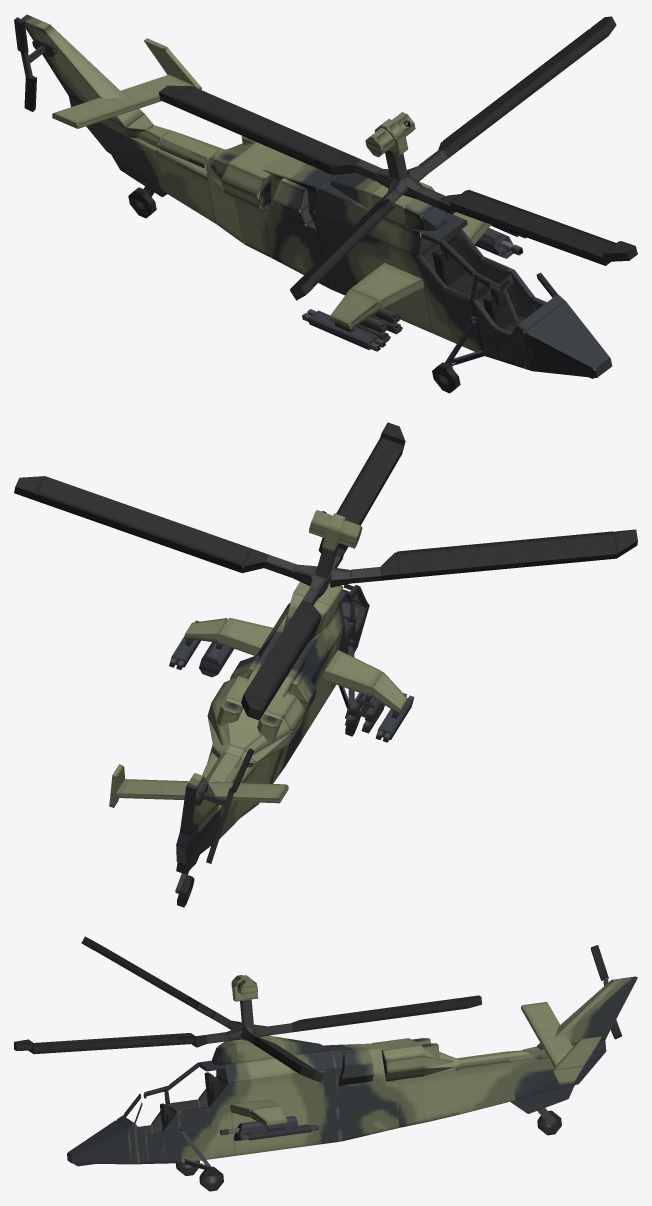
File: wreckage_military3.obj
The picture shows the model from 3 angles, top to bottom: view 1: azimuth 30°, elevation 25°; view 2: azimuth 150°, elevation 25°; view 3: azimuth 270°, elevation 25°; orthographic projection. The views are drawn at different scales.
Visible parts, largest first — view 1: bodyModel28, bodyModel78, bodyModel0, bodyModel88, tailModel5, bodyModel83, bodyModel29, bodyModel31, tailModel6, tailModel0, tailModel1, bodyModel33 (+24 smaller); view 2: bodyModel93, bodyModel83, bodyModel78, tailModel6, bodyModel88, bodyModel38, bodyModel29, rightWingModel0, bodyModel33, leftWingModel0, bodyModel28, tailModel5 (+8 smaller); view 3: bodyModel28, bodyModel31, tailModel5, tailModel0, bodyModel78, tailModel1, bodyModel88, bodyModel29, bodyModel0, tailModel6, bodyModel15, bodyModel32 (+20 smaller).
Boxes of the visible parts, <box> form: bodyModel28: <box>314,212,456,333</box>; bodyModel78: <box>175,86,347,174</box>; bodyModel0: <box>524,301,612,377</box>; bodyModel88: <box>450,190,615,265</box>; tailModel5: <box>21,14,144,127</box>; bodyModel83: <box>442,27,608,148</box>; bodyModel29: <box>314,174,447,256</box>; bodyModel31: <box>262,207,329,288</box>; tailModel6: <box>52,74,194,128</box>; tailModel0: <box>156,133,224,224</box>; tailModel1: <box>86,122,179,191</box>; bodyModel33: <box>222,142,283,195</box>; bodyModel93: <box>396,531,616,578</box>; bodyModel83: <box>35,476,251,572</box>; bodyModel78: <box>244,607,320,710</box>; tailModel6: <box>116,779,288,803</box>; bodyModel88: <box>321,437,404,553</box>; bodyModel38: <box>211,696,292,754</box>; bodyModel29: <box>256,602,344,679</box>; rightWingModel0: <box>322,650,382,696</box>; bodyModel33: <box>211,676,305,731</box>; leftWingModel0: <box>217,617,272,655</box>; bodyModel28: <box>285,627,344,766</box>; tailModel5: <box>180,773,217,834</box>; bodyModel28: <box>217,1069,341,1155</box>; bodyModel31: <box>335,1069,399,1141</box>; tailModel5: <box>536,976,637,1049</box>; tailModel0: <box>455,1062,514,1114</box>; bodyModel78: <box>302,997,467,1030</box>; tailModel1: <box>510,1051,605,1100</box>; bodyModel88: <box>29,1033,195,1054</box>; bodyModel29: <box>216,1045,335,1083</box>; bodyModel0: <box>67,1120,130,1164</box>; tailModel6: <box>521,1002,572,1067</box>; bodyModel15: <box>177,1106,213,1162</box>; bodyModel32: <box>423,1071,459,1121</box>.
Size of the model in its own units: 9.35 by 4.84 by 13.99.
Materials: 1 (1 with a texture image).
